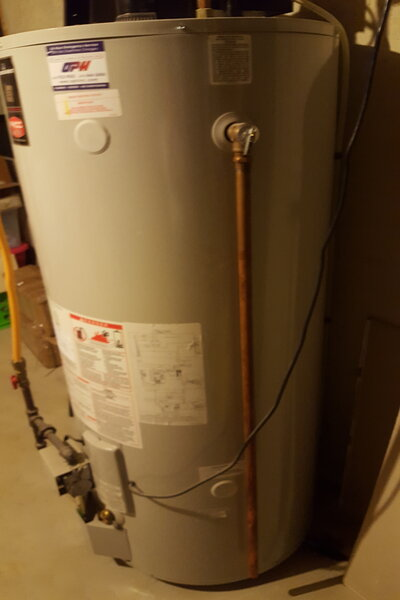valve: (224, 119, 261, 171)
